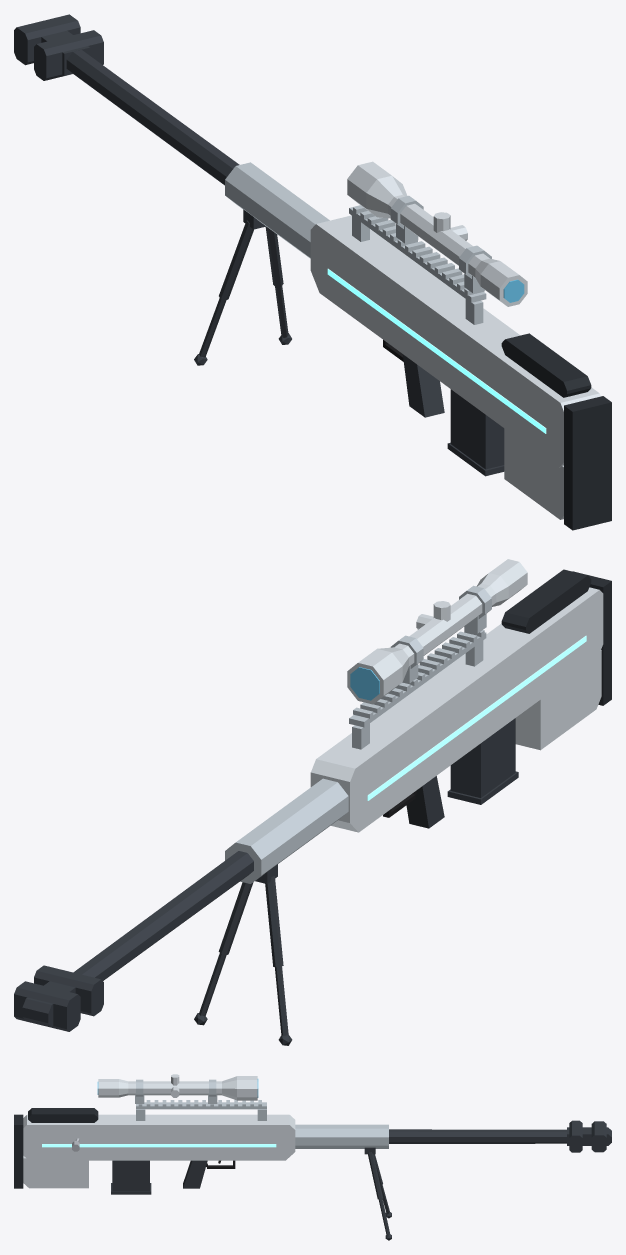
The model's file is Glacier.glb.
3 renders of one model, top to bottom at view 1: azimuth 30°, elevation 25°; view 2: azimuth 150°, elevation 25°; view 3: azimuth 270°, elevation 25°, orthographic. The views are drawn at different scales.
Visible parts, largest first — view 1: Body, Pad, Scope, Barrel, Mount, Handguard, Muzzle, Magazine, Stock, Bipod, Grip, Accent; view 2: Body, Scope, Handguard, Barrel, Mount, Muzzle, Pad, Stock, Magazine, Bipod, Accent, Grip (+1 smaller); view 3: Body, Barrel, Scope, Handguard, Stock, Mount, Pad, Magazine, Muzzle, Accent, Bipod, Grip.
Part boxes in pixels (<box>): Body: <box>310,215,600,467</box>; Pad: <box>501,333,611,530</box>; Scope: <box>347,161,527,306</box>; Barrel: <box>66,50,239,185</box>; Mount: <box>349,195,491,324</box>; Handguard: <box>225,162,329,258</box>; Muzzle: <box>14,14,103,80</box>; Magazine: <box>447,389,504,476</box>; Stock: <box>504,428,563,519</box>; Bipod: <box>194,209,291,365</box>; Grip: <box>402,354,444,417</box>; Accent: <box>327,268,546,433</box>; Body: <box>310,587,603,832</box>; Scope: <box>347,559,527,704</box>; Handguard: <box>225,778,348,883</box>; Barrel: <box>73,851,253,980</box>; Mount: <box>349,585,491,749</box>; Muzzle: <box>14,965,103,1031</box>; Pad: <box>501,569,611,705</box>; Stock: <box>515,650,601,750</box>; Magazine: <box>447,718,518,804</box>; Bipod: <box>194,864,292,1045</box>; Accent: <box>367,635,586,800</box>; Grip: <box>406,776,444,828</box>; Body: <box>23,1114,295,1160</box>; Barrel: <box>389,1129,566,1143</box>; Scope: <box>98,1074,257,1100</box>; Handguard: <box>295,1124,388,1148</box>; Stock: <box>23,1156,88,1188</box>; Mount: <box>135,1079,266,1120</box>; Pad: <box>14,1108,98,1188</box>; Magazine: <box>111,1160,151,1194</box>; Muzzle: <box>567,1120,611,1152</box>; Accent: <box>42,1144,276,1147</box>; Bipod: <box>364,1147,391,1240</box>; Grip: <box>183,1160,207,1188</box>.
Bounding box in the file's own units: 0.6281 × 1.8 × 6.38.
